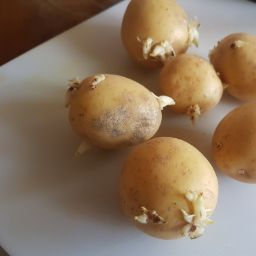Russet potato: (37, 1, 256, 242), (114, 131, 222, 242), (60, 69, 173, 161), (150, 51, 230, 120), (116, 1, 200, 66), (209, 100, 256, 189), (208, 25, 256, 106), (219, 109, 256, 197)
